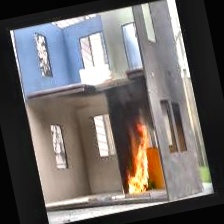fire: (110, 121, 165, 199)
